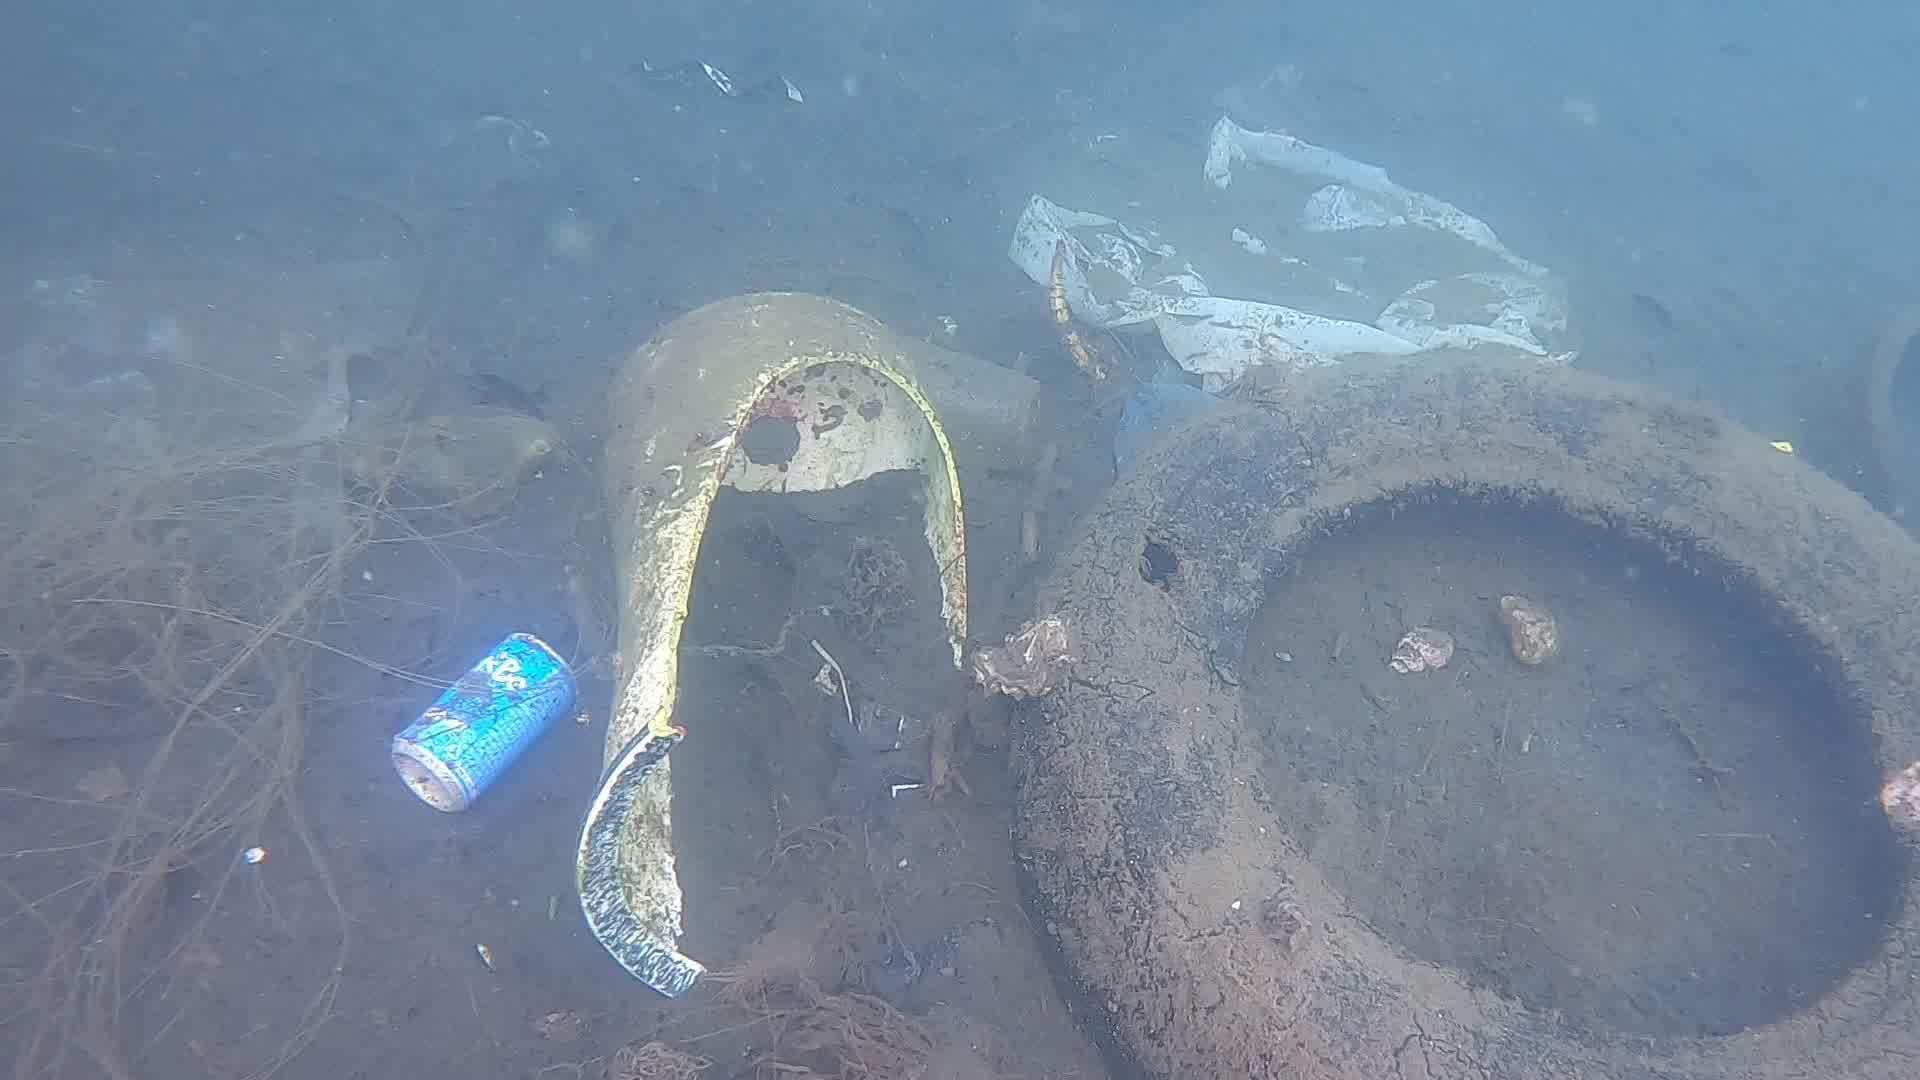tire: (1015, 349, 1920, 1080)
